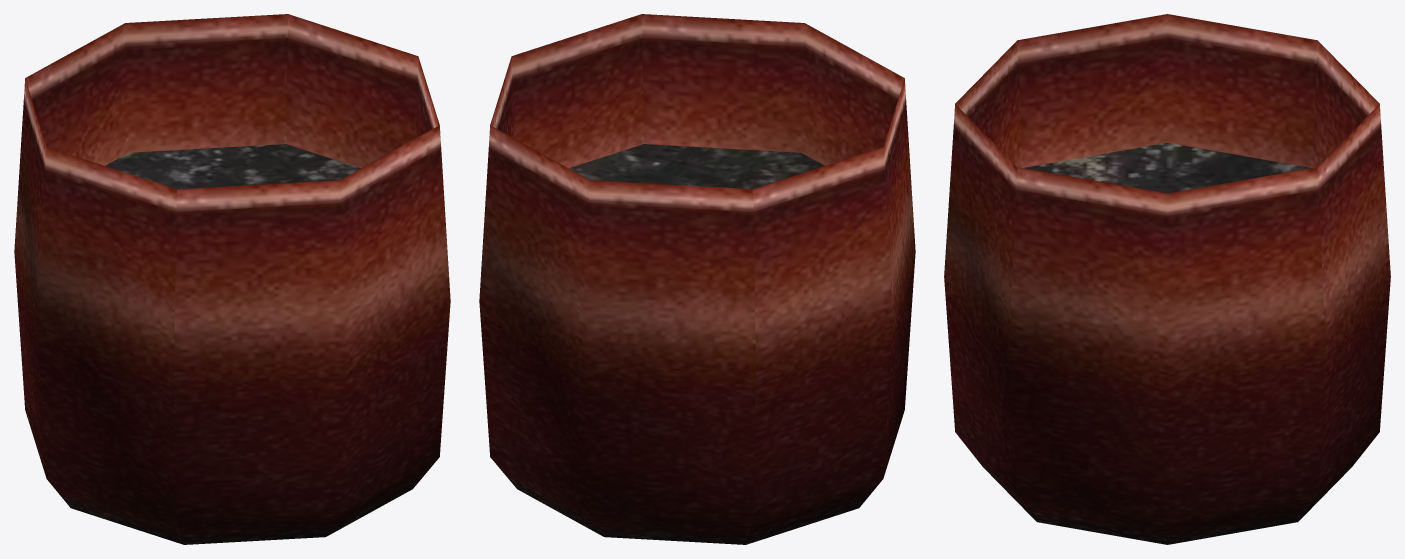
File: ITMI_PITCH.glb
The picture shows the model from 3 angles, left to right: view 1: azimuth 30°, elevation 25°; view 2: azimuth 150°, elevation 25°; view 3: azimuth 270°, elevation 25°; orthographic projection.
Parts seen in each view (by area): view 1: Mesh; view 2: Mesh; view 3: Mesh.
Part boxes in pixels (x1=…): Mesh: x1=14, y1=14, x2=450, y2=544; Mesh: x1=479, y1=14, x2=915, y2=544; Mesh: x1=944, y1=14, x2=1390, y2=544.
Size of the model in its own units: 0.2357 by 0.2114 by 0.2357.
2 materials, 2 textured.
